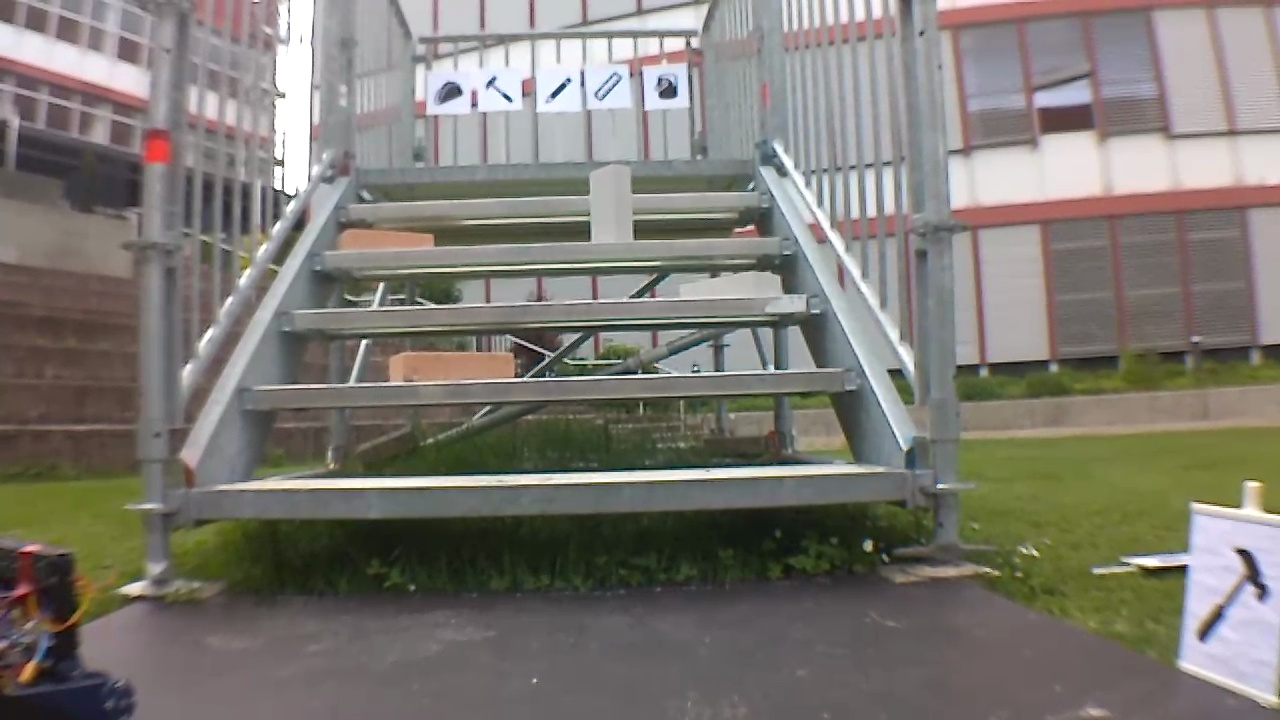brick: (390, 353, 513, 383), (590, 166, 631, 240), (682, 272, 780, 297), (337, 229, 433, 248)
bucket: (649, 68, 681, 101)
edge: (194, 469, 906, 518), (241, 367, 861, 405), (281, 295, 823, 327), (313, 237, 796, 266), (338, 191, 773, 216), (357, 157, 749, 180)
hammer: (1192, 540, 1272, 654), (477, 74, 516, 107)
pencil: (538, 74, 575, 106)
ruler: (591, 69, 623, 105)
stairs: (137, 2, 967, 569)
steps: (188, 148, 919, 528)
taco: (428, 77, 462, 107)
